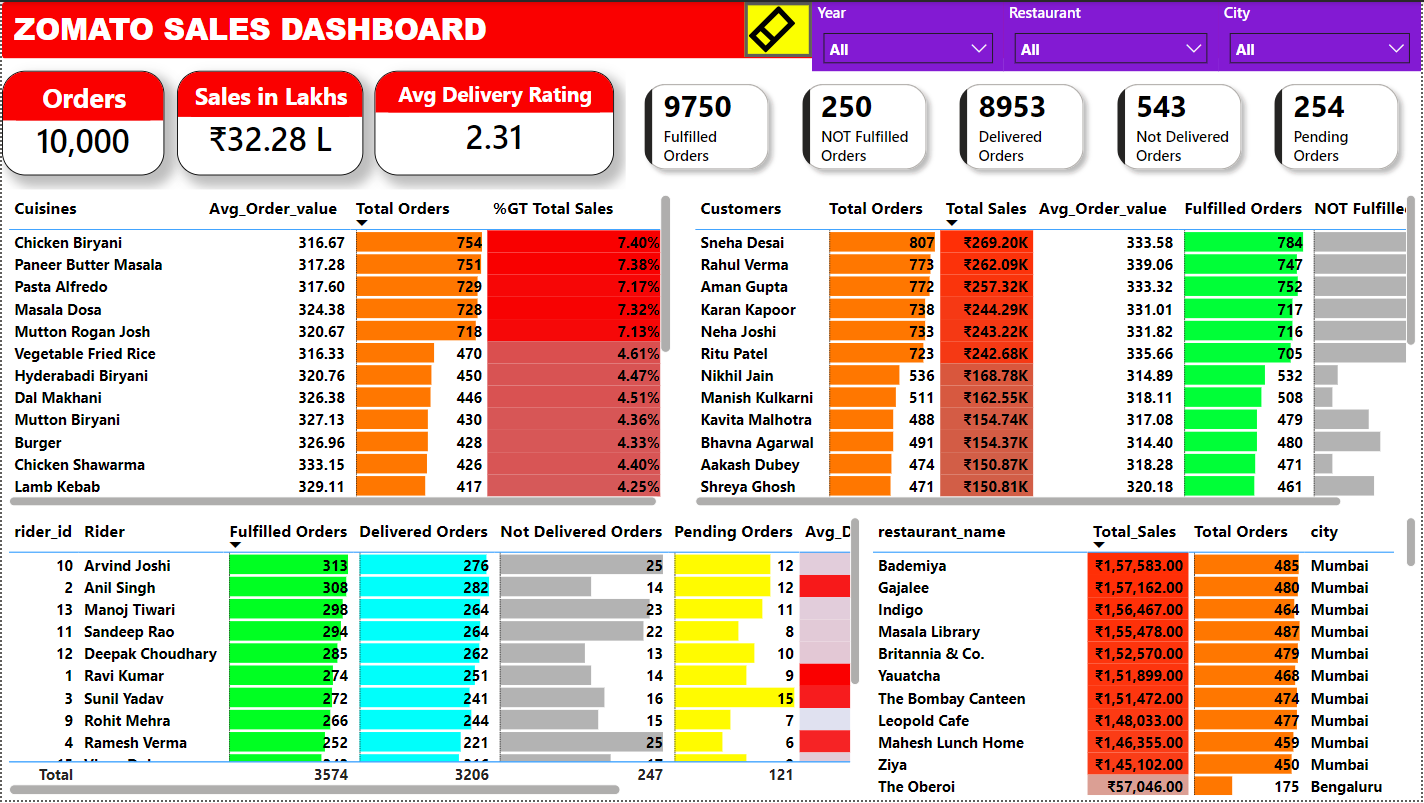

Layout of this report page (visuals, bound fields, positions):
{"tool":"powerbi","page":{"name":"Details Dashboard","canvas":[1280,720],"ordinal":1},"visuals":[{"type":"shape","box":[0,0,1280,51],"z":0},{"type":"textbox","box":[0,0,456.5,51],"z":1000},{"type":"card","title":"Orders","fields":{"Values":["Orders.Total Orders"]},"box":[0,61.9,146.6,94.8],"z":2000},{"type":"card","title":"Sales in Lakhs","fields":{"Values":["Orders.Sales in Lakhs (Card)"]},"box":[158,61.9,168.1,94.8],"z":3000},{"type":"card","title":"Avg Delivery Rating","fields":{"Values":["Orders_x_Deliveries.Avg_Delivery_Rating"]},"box":[336.2,61.9,216.1,94.8],"z":4000},{"type":"tableEx","title":"February Records Lowest Sales, March Achieves Highest","fields":{"Values":["Orders.order_item","Orders.Avg_Order_value","Orders.Total Orders","Orders.Total Sales"]},"box":[0,169.4,607.9,290.7],"z":5000},{"type":"tableEx","title":"Top 5 Cuisines by Total Order Volume","fields":{"Values":["Riders.rider_id","Riders.rider_name","Orders.Fulfilled Orders","Orders.Delivered Orders","Orders.Not Delivered Orders","Orders.Pending Orders","Orders_x_Deliveries.Delivery_Duration_Minutes","Orders_x_Deliveries.Avg_Delivery_Rating"]},"box":[0,460.3,778.7,260],"z":6000},{"type":"cardVisual","fields":{"Data":["Orders.Fulfilled Orders","Orders.NOT Fulfilled Orders","Orders.Delivered Orders","Orders.Not Delivered Orders","Orders.Pending Orders"]},"box":[562.3,62.2,717.8,107],"z":7000},{"type":"tableEx","title":"Peak on Sunday, Decline on Tuesday","fields":{"Values":["Customers.customer_name","Orders.Total Orders","Orders.Total_Sales2","Orders.Avg_Order_value","Orders.Fulfilled Orders","Orders.NOT Fulfilled Orders"]},"box":[619.3,169.4,661,290.7],"z":8000},{"type":"tableEx","title":"Steady Increase After Noon, Peak in Afternoon and Evening, with a Significant Decline After Midnight","fields":{"Values":["Restaurants.restaurant_name","Orders.Total_Sales2","Orders.Total Orders","Restaurants.city"]},"box":[778.7,460.3,501.3,260],"z":9000},{"type":"slicer","title":"City","fields":{"Values":["Restaurants.city"]},"box":[1097.2,0,182.9,62.2],"z":10000},{"type":"slicer","title":"Restaurant","fields":{"Values":["Restaurants.restaurant_name"]},"box":[903.1,0,194.1,62.2],"z":11000},{"type":"slicer","title":"Year","fields":{"Values":["DateTable.Year"]},"box":[730.2,0,172.9,62.2],"z":12000},{"type":"actionButton","box":[669.3,0,61,49.8],"z":13000}]}

Visuals, with their boxes in screenshot pixels (x1, y1, x2, y2), scaled from the page's 1280x720 canvas onto the 1424x803 screenshot:
shape: l=0, t=0, r=1423, b=57
textbox: l=0, t=0, r=508, b=57
"Orders" card: l=0, t=69, r=163, b=175
"Sales in Lakhs" card: l=176, t=69, r=363, b=175
"Avg Delivery Rating" card: l=374, t=69, r=614, b=175
"February Records Lowest Sales, March Achieves Highest" tableEx: l=0, t=189, r=676, b=513
"Top 5 Cuisines by Total Order Volume" tableEx: l=0, t=513, r=866, b=802
cardVisual - Orders.Fulfilled Orders x Orders.NOT Fulfilled Orders: l=626, t=69, r=1423, b=189
"Peak on Sunday, Decline on Tuesday" tableEx: l=689, t=189, r=1423, b=513
"Steady Increase After Noon, Peak in Afternoon and Evening, with a Significant Decline After Midnight" tableEx: l=866, t=513, r=1423, b=802
"City" slicer: l=1221, t=0, r=1423, b=69
"Restaurant" slicer: l=1005, t=0, r=1221, b=69
"Year" slicer: l=812, t=0, r=1005, b=69
actionButton: l=745, t=0, r=812, b=56
